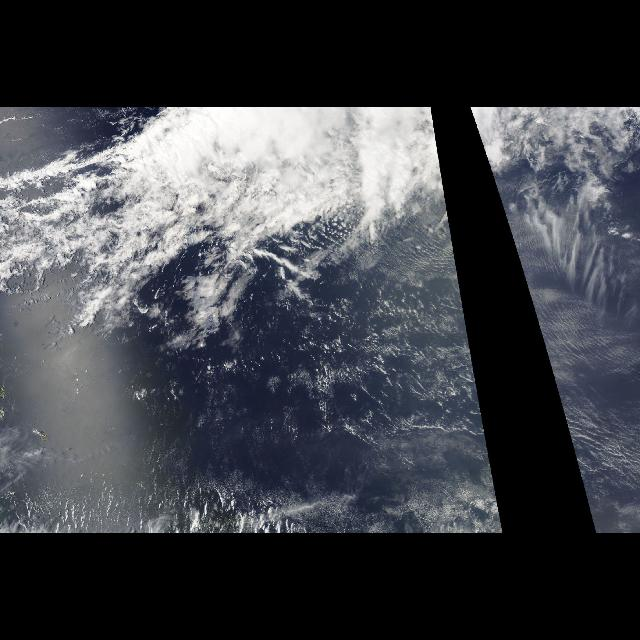Gravel: (3, 245, 484, 531)
Sugar: (489, 134, 639, 530), (298, 264, 504, 530), (18, 474, 364, 520)
